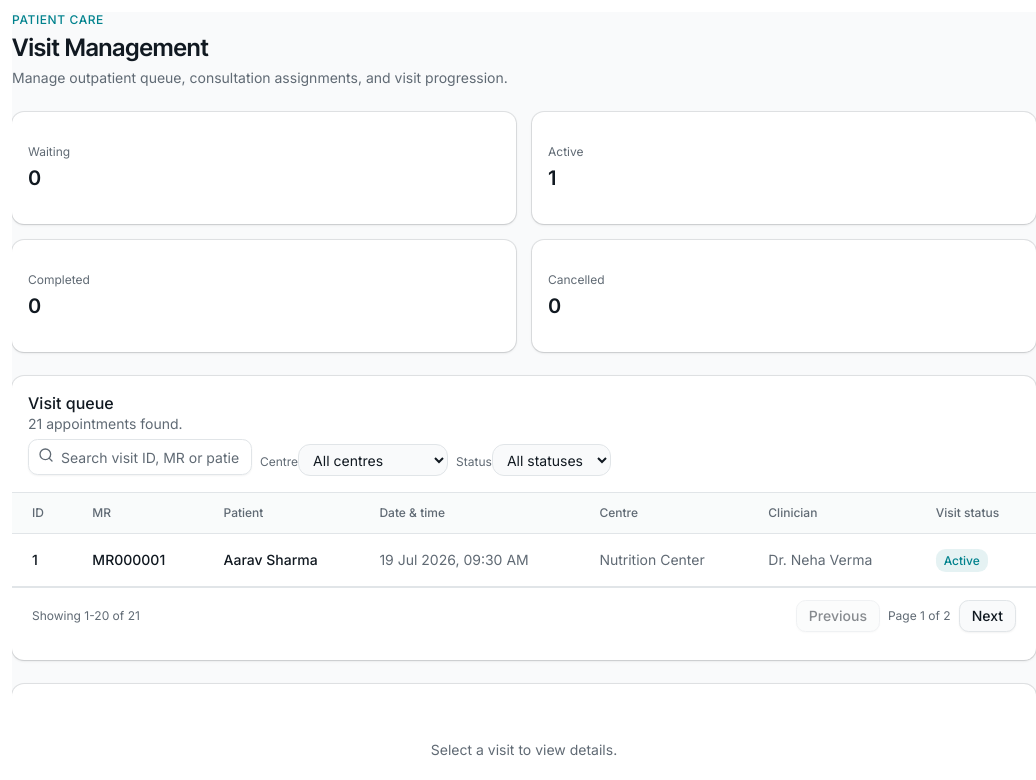
Test: VisitsWorkspace › moves to the next backend page with simple pagination controls
The width and height of the screenshot is (1036, 780).
Check: the text "Aarav Sharma" is shown, box [224,551,318,568]
Check: the text "Page 1 of 2" is shown, box [888,608,951,624]
Click the button "Next": (987, 616) [959,600,1016,632]
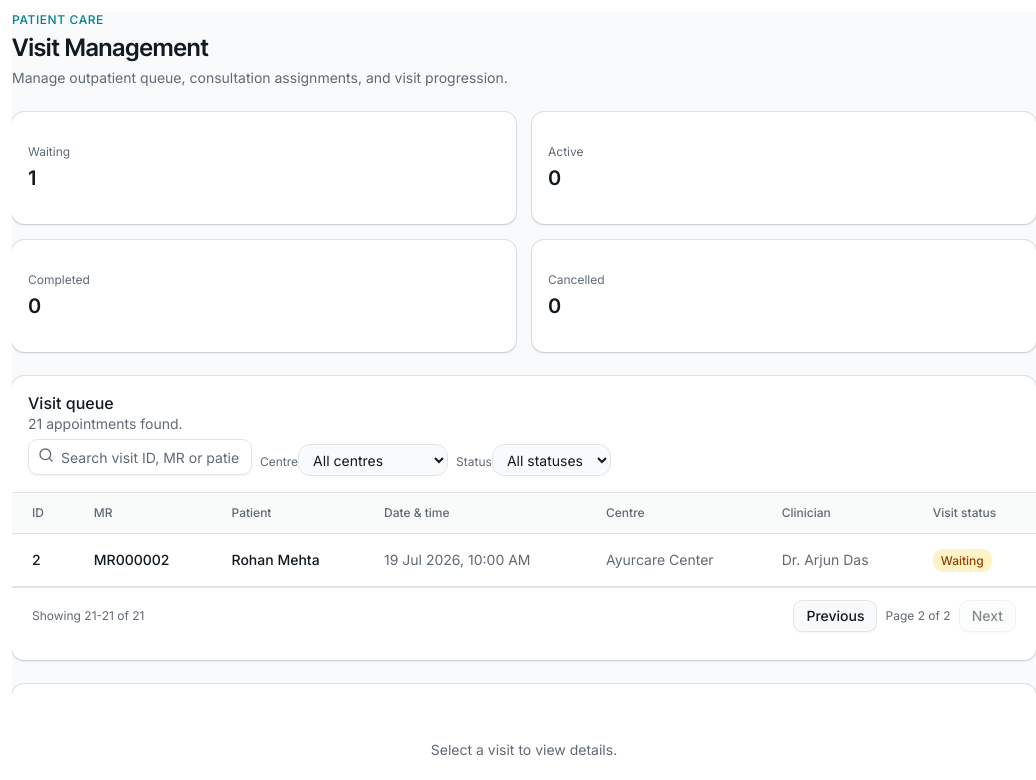
Check: the text "Rohan Mehta" is shown, box [232,551,320,568]
Check: the text "Page 2 of 2" is shown, box [886,608,951,624]
